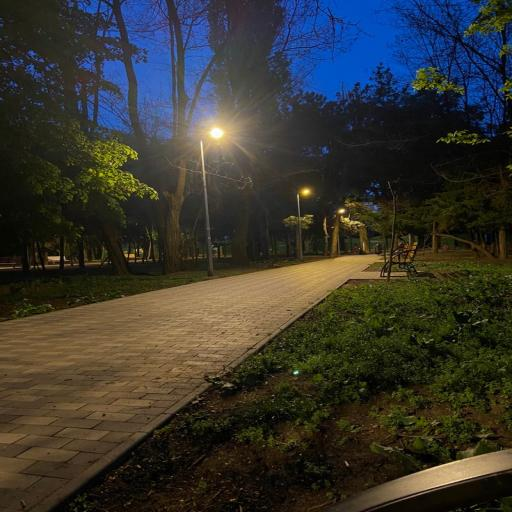phone: (200, 140, 214, 276), (298, 194, 303, 260)
shelf: (0, 255, 379, 511)
trash_bin: (381, 243, 418, 277)
